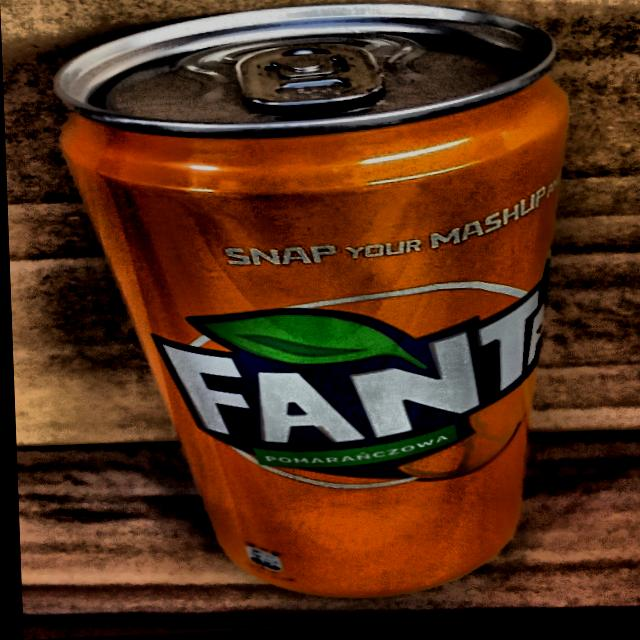Cans: (44, 0, 615, 619)
